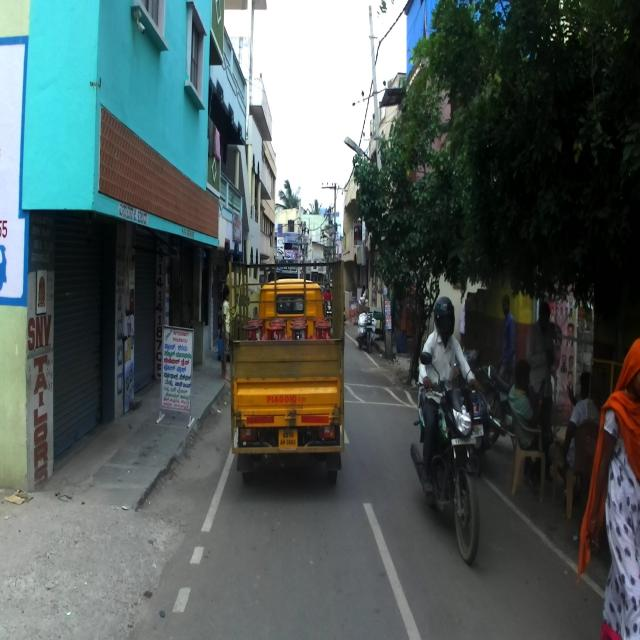autorickshaw: (231, 259, 351, 487)
motorcycle: (410, 351, 505, 563), (480, 358, 542, 451), (355, 297, 375, 354)
scooter: (458, 350, 492, 477)
